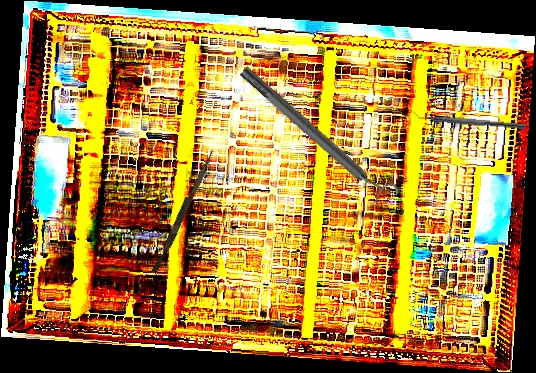Chopper: (410, 108, 527, 129)
Fixation Ring: (233, 57, 402, 214)
Pusher: (151, 147, 215, 276)
